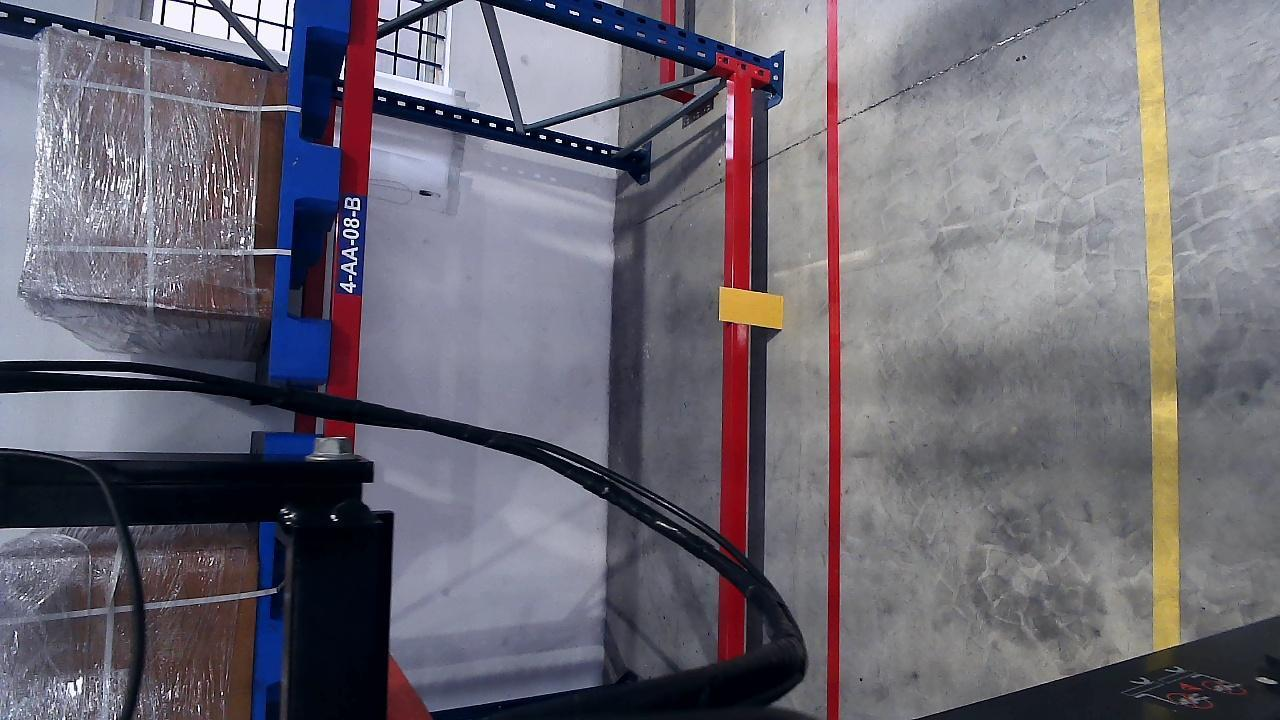red_line: (820, 0, 844, 699)
yellow_line: (1137, 0, 1181, 644)
